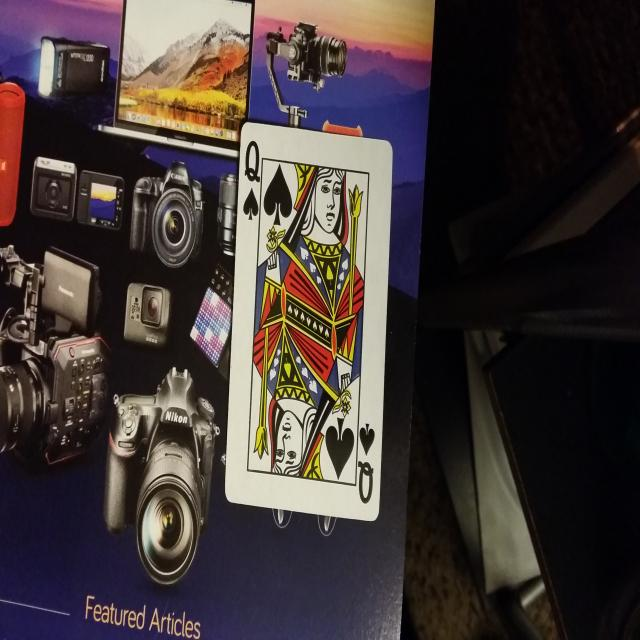Qs: (352, 416, 378, 508), (241, 135, 265, 219)
